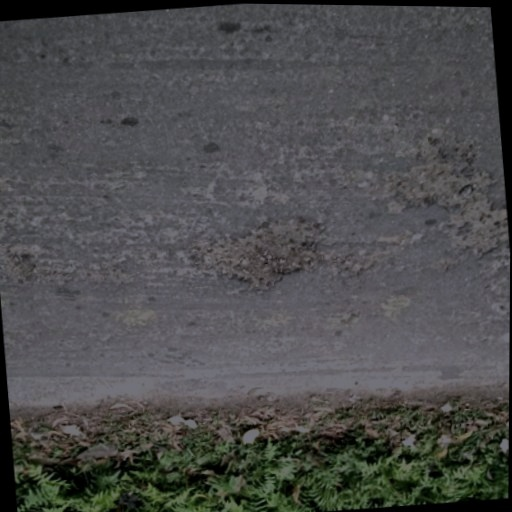pothole: (185, 213, 328, 300), (386, 148, 499, 216), (452, 207, 511, 259)
